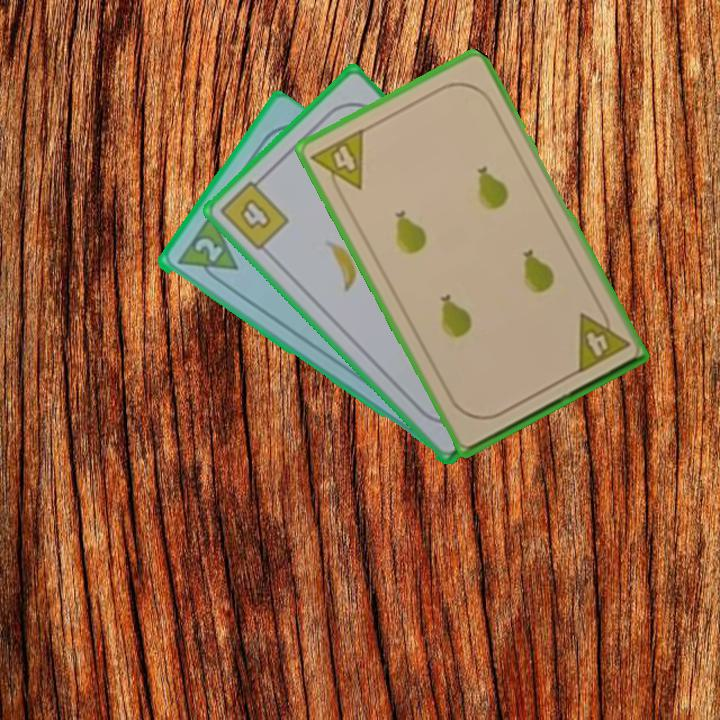2p: (190, 234, 225, 265)
4b: (216, 171, 292, 254)
4p: (307, 125, 367, 202), (573, 301, 633, 377)
